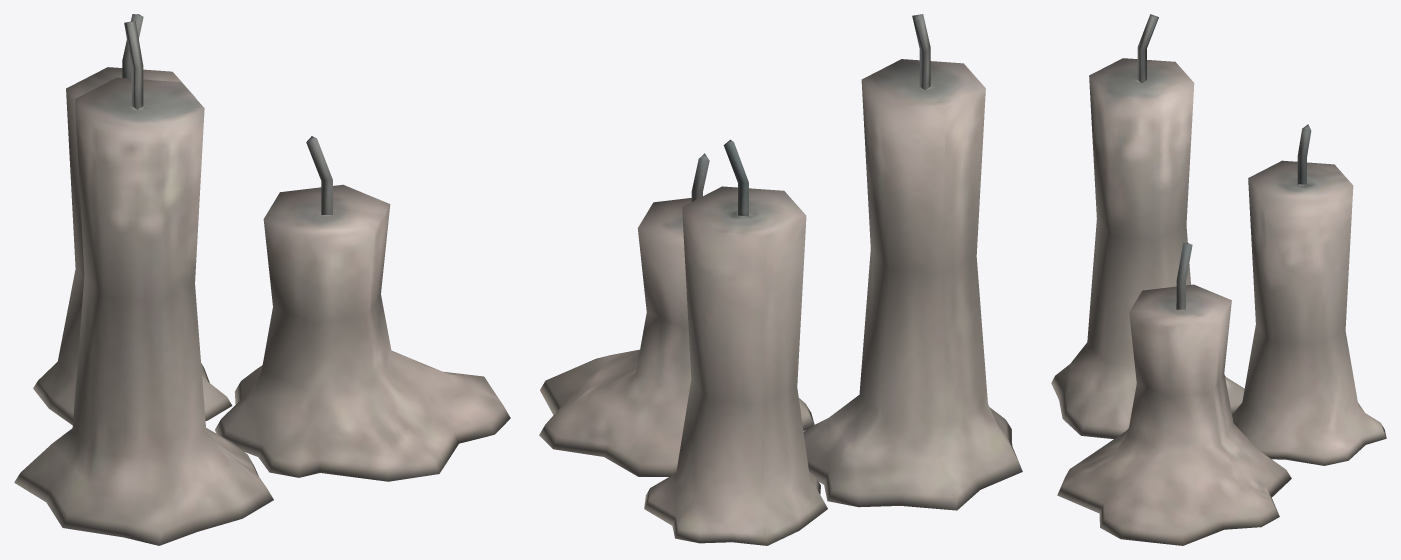
File: Stage_DiXiaCheng_LaZhu.FBX
3 views of the same model, side by side, from view 1: azimuth 30°, elevation 25°; view 2: azimuth 150°, elevation 25°; view 3: azimuth 270°, elevation 25° (orthographic). The views are drawn at different scales.
Parts seen in each view (by area): view 1: Stage_DiXiaCheng_LaZhu; view 2: Stage_DiXiaCheng_LaZhu; view 3: Stage_DiXiaCheng_LaZhu.
Boxes of the visible parts, x1,y1,x2,y2 form: Stage_DiXiaCheng_LaZhu: (14, 14, 510, 545); Stage_DiXiaCheng_LaZhu: (539, 14, 1022, 545); Stage_DiXiaCheng_LaZhu: (1051, 14, 1386, 545).
Bounding box in the file's own units: 52.12 × 50.35 × 40.14.
